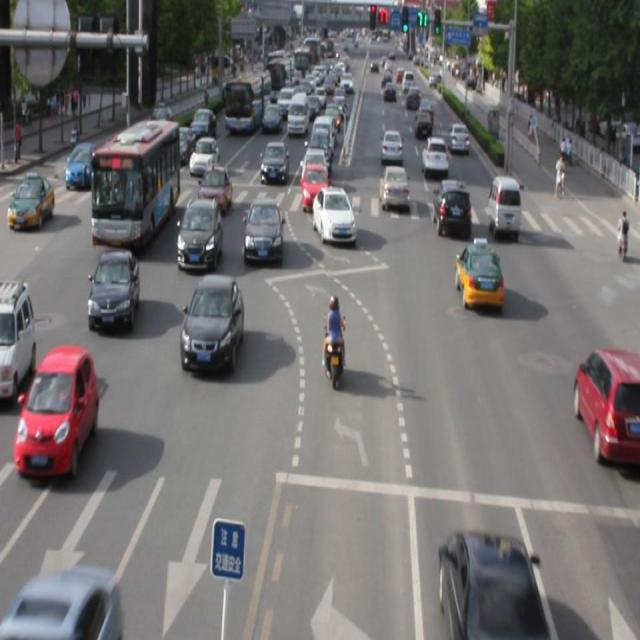car: (439, 530, 539, 640), (17, 347, 96, 480), (0, 567, 120, 640), (570, 346, 640, 461), (180, 274, 242, 372), (88, 249, 136, 332), (455, 241, 502, 310), (178, 198, 222, 270), (310, 188, 357, 246), (242, 198, 282, 265), (433, 177, 469, 238)
truck: (487, 174, 520, 238)
van: (93, 121, 179, 250)
